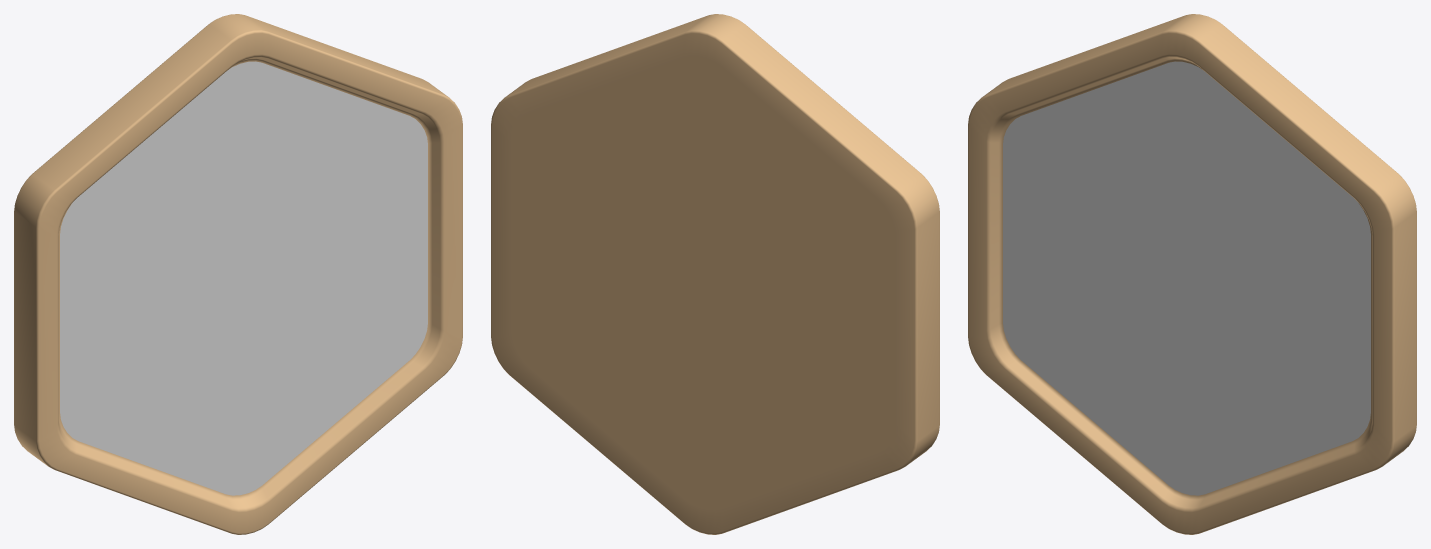
The model's file is medalha.glb.
3 renders of one model, left to right at view 1: azimuth 30°, elevation 25°; view 2: azimuth 150°, elevation 25°; view 3: azimuth 330°, elevation 25°, orthographic.
Parts seen in each view (by area): view 1: Circle; view 2: Circle; view 3: Circle.
Boxes of the visible parts, x1=… form: Circle: x1=14, y1=14, x2=462, y2=534; Circle: x1=491, y1=14, x2=939, y2=534; Circle: x1=968, y1=14, x2=1416, y2=534.
Bounding box in the file's own units: 1.73 × 1.95 × 0.1701.
